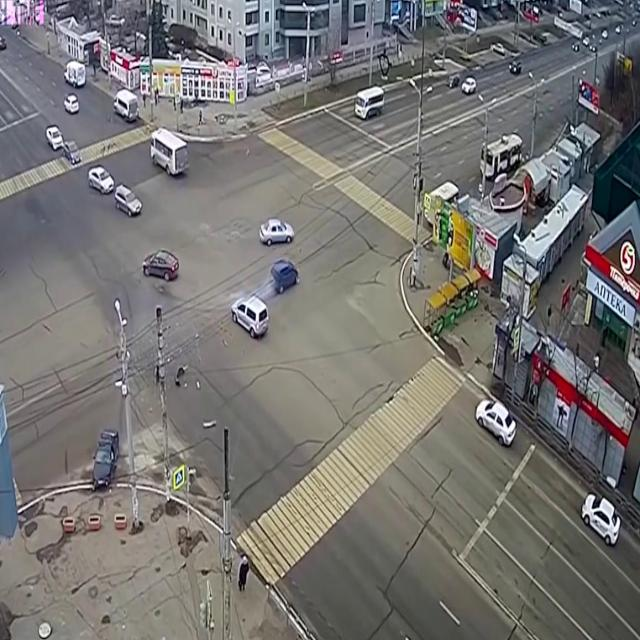accident: (224, 253, 304, 347), (82, 409, 126, 503)
non_accident: (85, 162, 143, 222), (43, 120, 85, 171)
